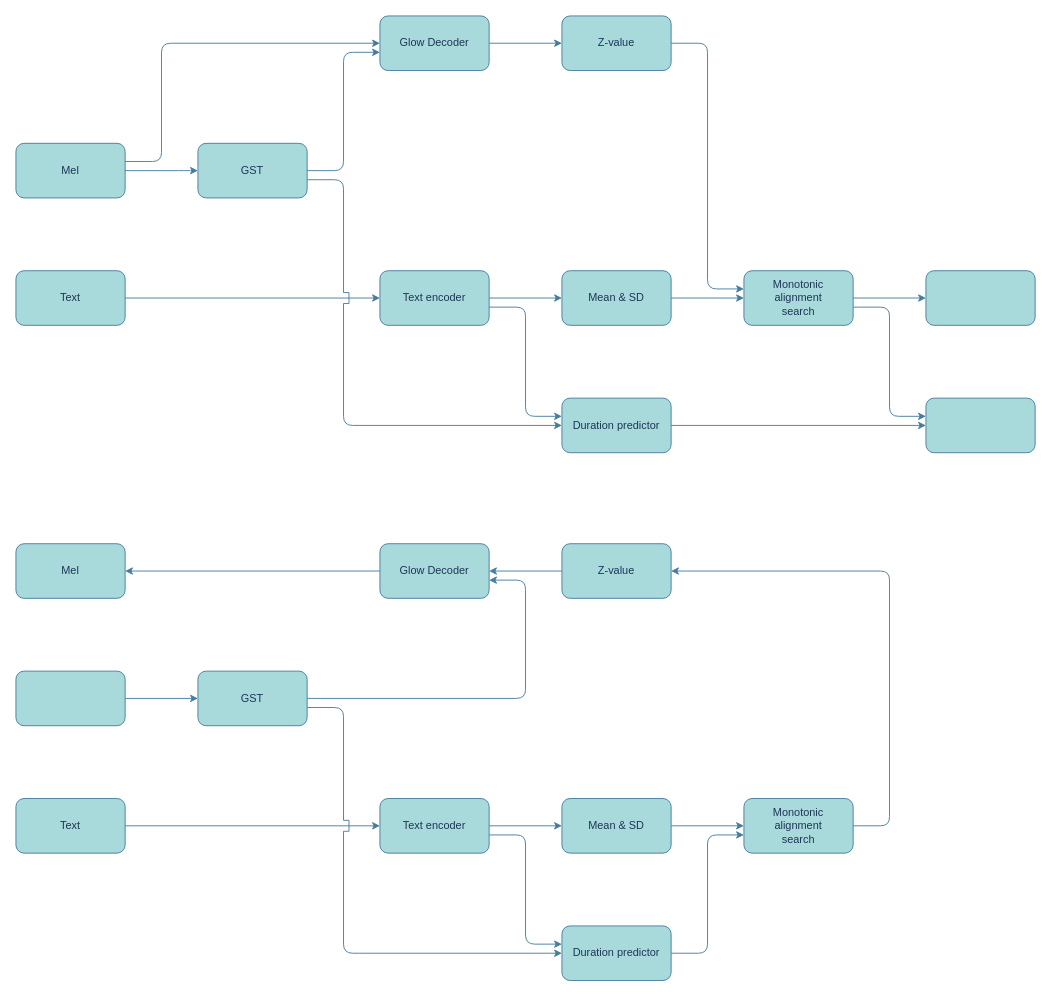
This 1051x996 diagram has some shape labels left out. Here are the shapes that lost their labels. From the top down, the box of each, then its label:
(925, 270, 1035, 325): MLE loss
(925, 397, 1035, 453): Length loss
(15, 670, 125, 726): Reference mel
